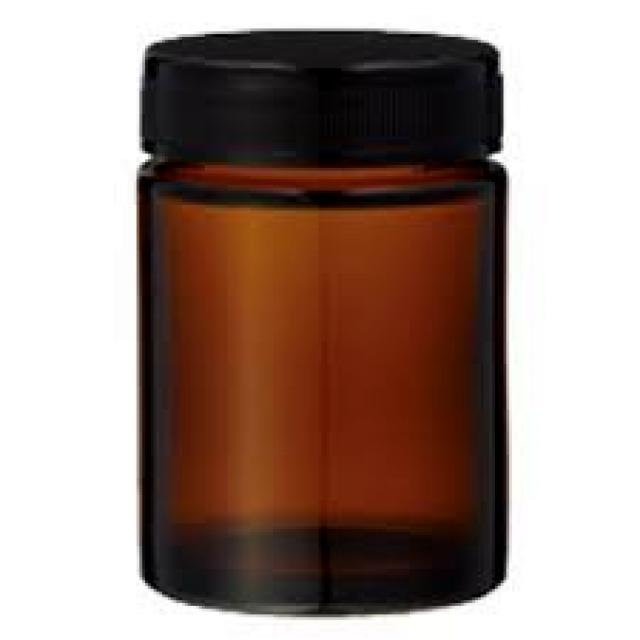Plastic: (134, 26, 511, 621)
